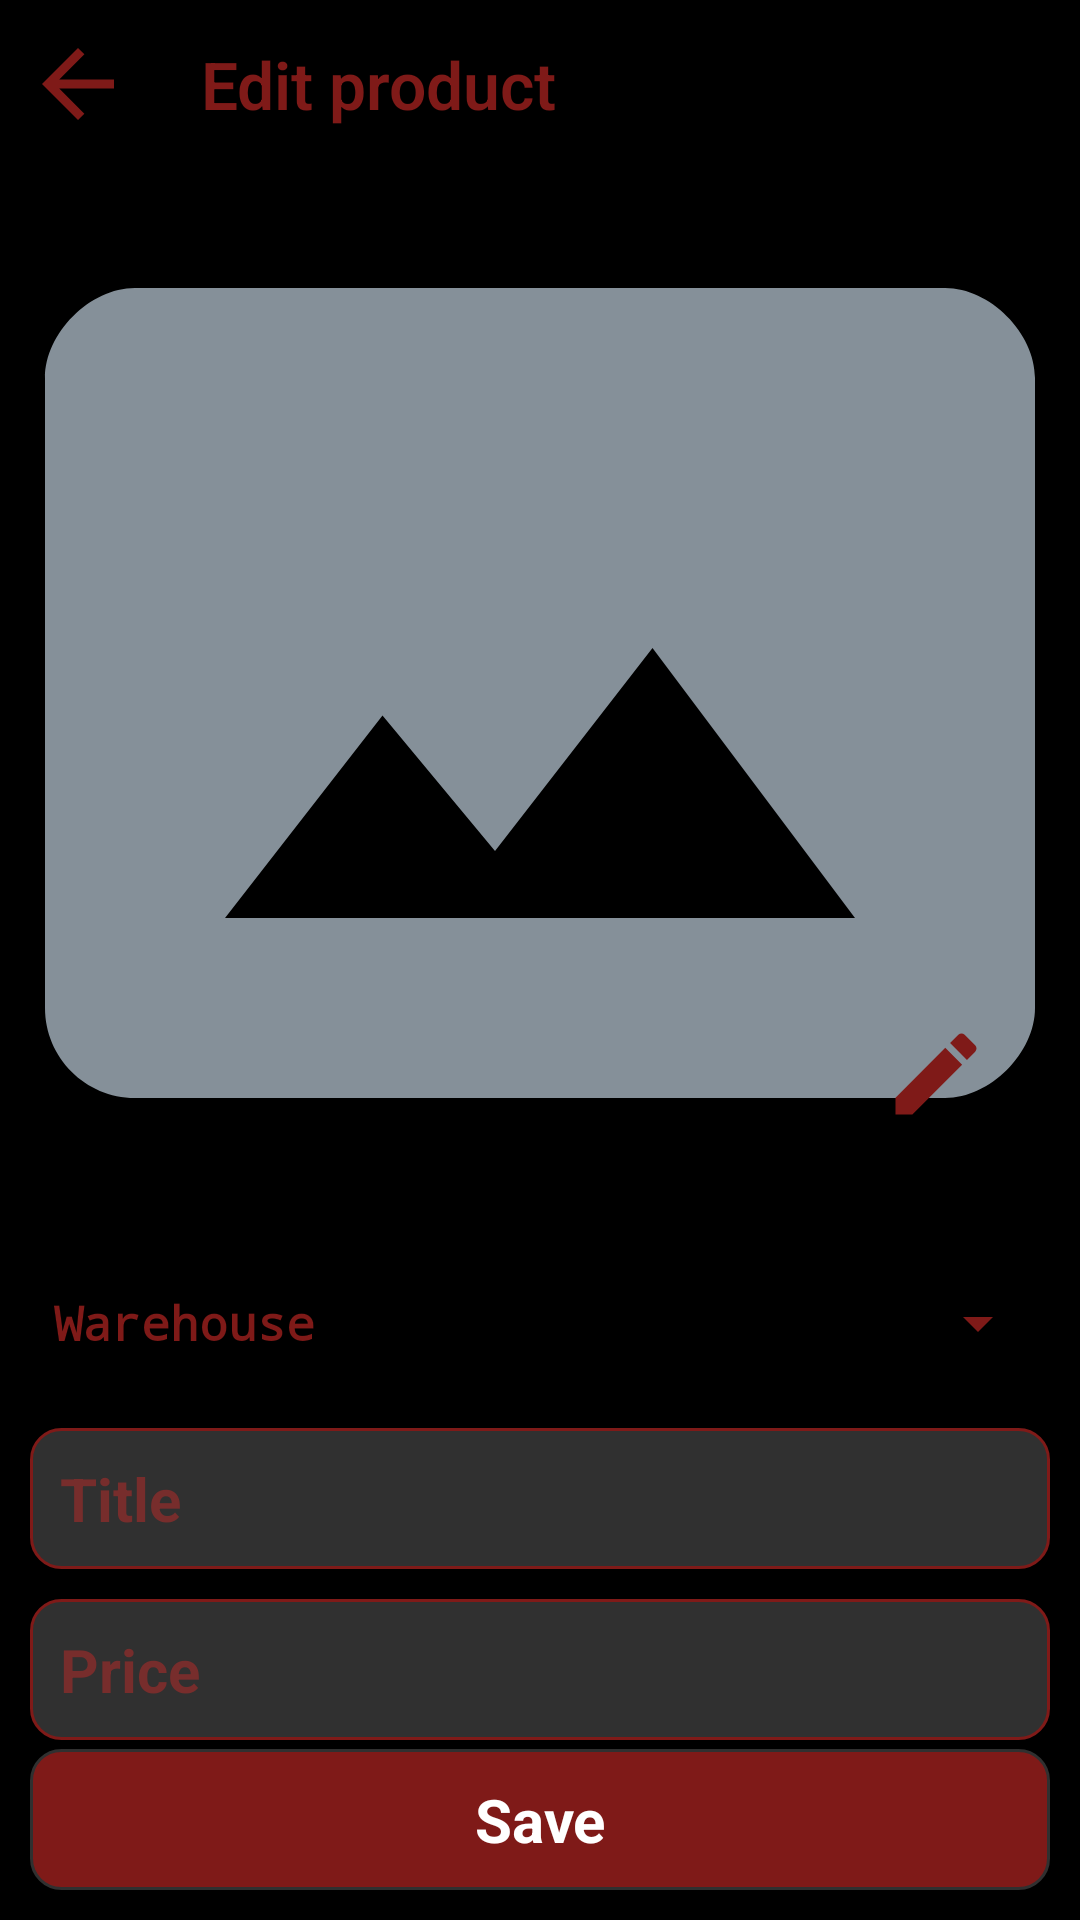

Icon click points for this 1080 x 1920 phone screenshot, format [x,y]:
arrow back: [78,84]
edit: [936,1074]
